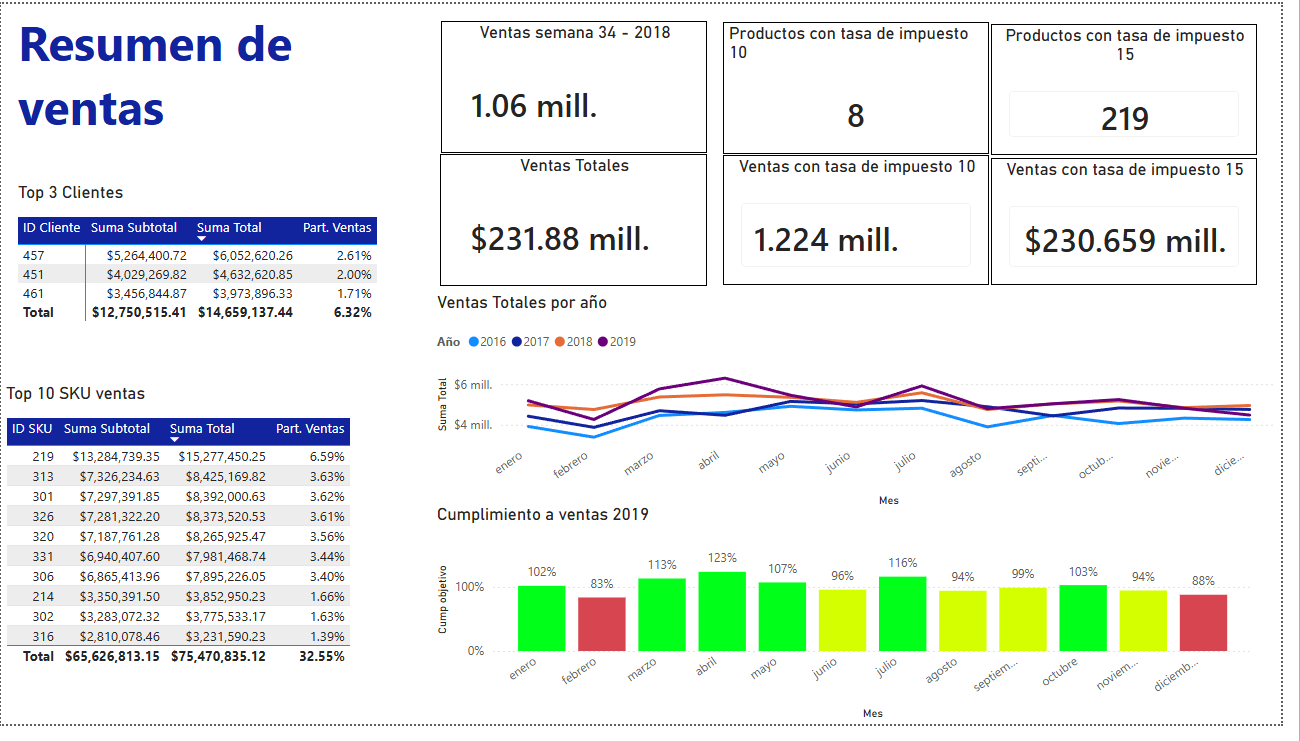

The dashboard page shown, as its layout file describes it:
{"tool":"powerbi","page":{"name":"Página 1","canvas":[1280,720],"ordinal":0},"visuals":[{"type":"pivotTable","title":"Top 3 Clientes","fields":{"Rows":["dimCliente.ID Cliente"],"Values":["Ventas.Ventas","Ventas.Total","Ventas.Part. Ventas"]},"box":[11.7,178,384.2,172.2],"z":0},{"type":"cardVisual","title":"Ventas Totales","fields":{"Data":["Ventas.Total"]},"box":[439.3,150.4,266.5,131.3],"z":1000},{"type":"tableEx","title":"Top 10 SKU ventas","fields":{"Values":["Ventas.ID SKU","Ventas.Subtotal","Ventas.Total","Ventas.Part. Ventas"]},"box":[0,379.3,407.5,304.4],"z":2000},{"type":"cardVisual","title":"Ventas semana 34 - 2018","fields":{"Data":["Ventas.Total"]},"box":[440.4,17.3,265.5,131.3],"z":3000},{"type":"cardVisual","title":"Productos con tasa de impuesto 10","fields":{"Data":["Ventas.Recuento 15%"]},"box":[721.7,18.4,266.5,131.3],"z":4000},{"type":"cardVisual","title":"Productos con tasa de impuesto 15","fields":{"Data":["Ventas.Recuento 15%"]},"box":[989.9,19.9,265.9,131.4],"z":5000},{"type":"lineChart","title":"Ventas Totales por año","fields":{"Y":["Ventas.Suma Total"],"Series":["Calendario.Fecha.Variación.Jerarquía de fechas.Año"],"Category":["Calendario.Fecha.Variación.Jerarquía de fechas.Mes"]},"box":[430.6,287.8,849.4,219.6],"z":6000},{"type":"cardVisual","title":"Ventas con tasa de impuesto 15","fields":{"Data":["Ventas.Ventas con tasa de impuesto 15"]},"box":[990,153.6,266.2,127.7],"z":7000},{"type":"cardVisual","title":"Ventas con tasa de impuesto 10","fields":{"Data":["Ventas.Ventas con tasa de impuesto 10"]},"box":[721.7,151.5,266.2,129.8],"z":8000},{"type":"columnChart","title":"Cumplimiento a ventas 2019","fields":{"Category":["Calendario.Fecha.Variación.Jerarquía de fechas.Mes"],"Y":["Objetivo de ventas.Cumplimiento"]},"box":[430.6,499.9,825.6,219.6],"z":9000},{"type":"textbox","box":[12,0,384,150],"z":10000}]}

Visuals, with their boxes in screenshot pixels (x1, y1, x2, y2), scaled from the page's 1280x720 canvas onto the 1300x741 screenshot:
"Top 3 Clientes" pivotTable: x1=12, y1=183, x2=402, y2=360
"Ventas Totales" cardVisual: x1=446, y1=155, x2=717, y2=290
"Top 10 SKU ventas" tableEx: x1=0, y1=390, x2=414, y2=704
"Ventas semana 34 - 2018" cardVisual: x1=447, y1=18, x2=717, y2=153
"Productos con tasa de impuesto 10" cardVisual: x1=733, y1=19, x2=1004, y2=154
"Productos con tasa de impuesto 15" cardVisual: x1=1005, y1=20, x2=1275, y2=156
"Ventas Totales por año" lineChart: x1=437, y1=296, x2=1299, y2=522
"Ventas con tasa de impuesto 15" cardVisual: x1=1005, y1=158, x2=1276, y2=290
"Ventas con tasa de impuesto 10" cardVisual: x1=733, y1=156, x2=1003, y2=290
"Cumplimiento a ventas 2019" columnChart: x1=437, y1=514, x2=1276, y2=740
textbox: x1=12, y1=0, x2=402, y2=154
